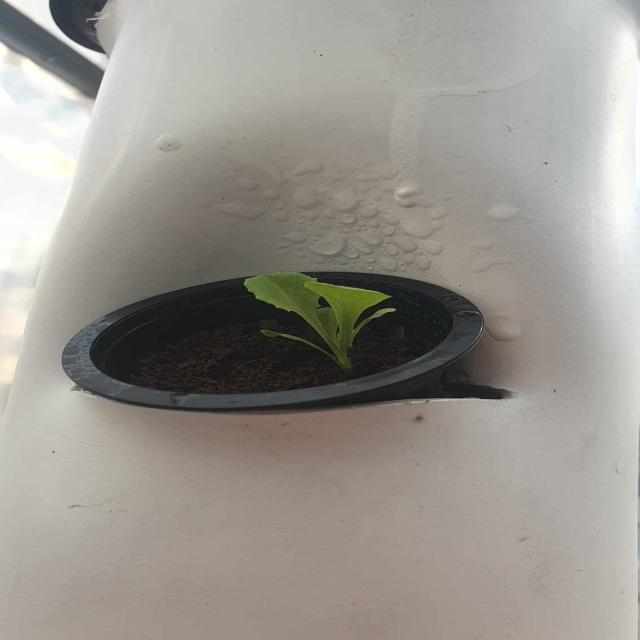Lettuce-Not-Ready-to-Harvest: (243, 272, 396, 369)
